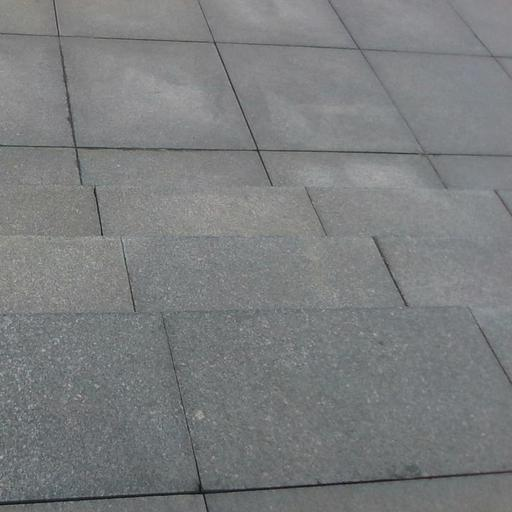stairs: (0, 165, 511, 500)
